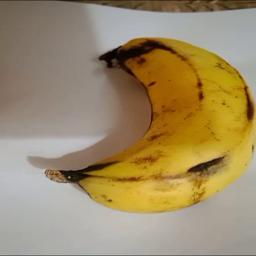Banana Semifresh: (43, 40, 256, 214)
